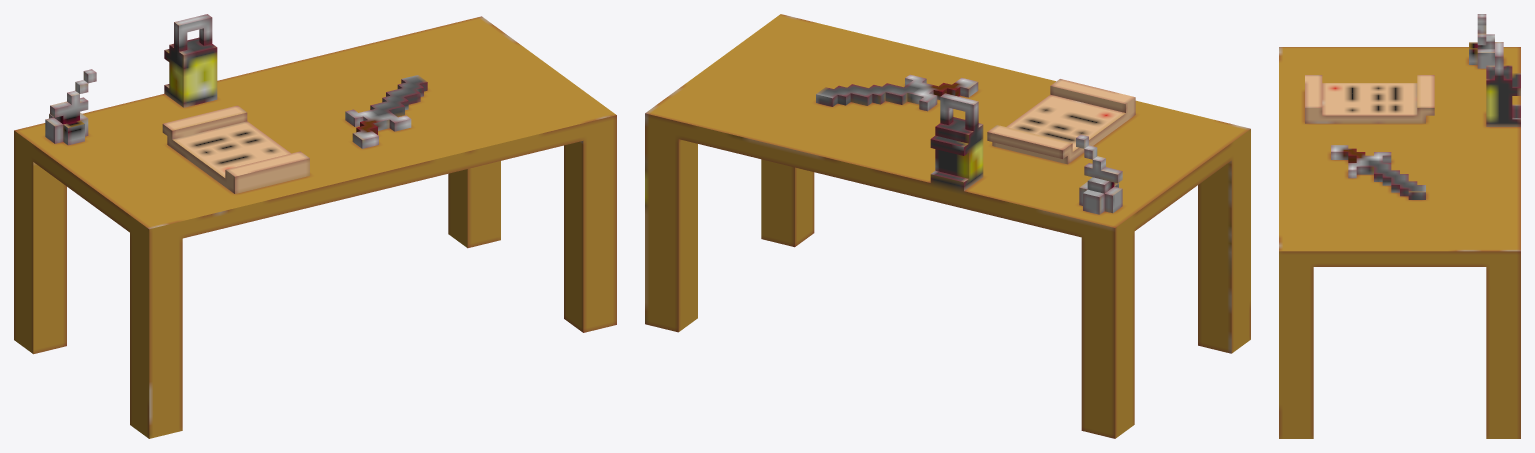
File: table_2.fbx
3 views of the same model, side by side, from view 1: azimuth 30°, elevation 25°; view 2: azimuth 150°, elevation 25°; view 3: azimuth 270°, elevation 25° (orthographic). The views are drawn at different scales.
Parts seen in each view (by area): view 1: table_2.001; view 2: table_2.001; view 3: table_2.001.
Part boxes in pixels (x1=…): table_2.001: x1=14, y1=14, x2=616, y2=438; table_2.001: x1=645, y1=14, x2=1250, y2=438; table_2.001: x1=1279, y1=14, x2=1520, y2=438.
Size of the model in its own units: 5.6 by 3.3 by 2.8.
